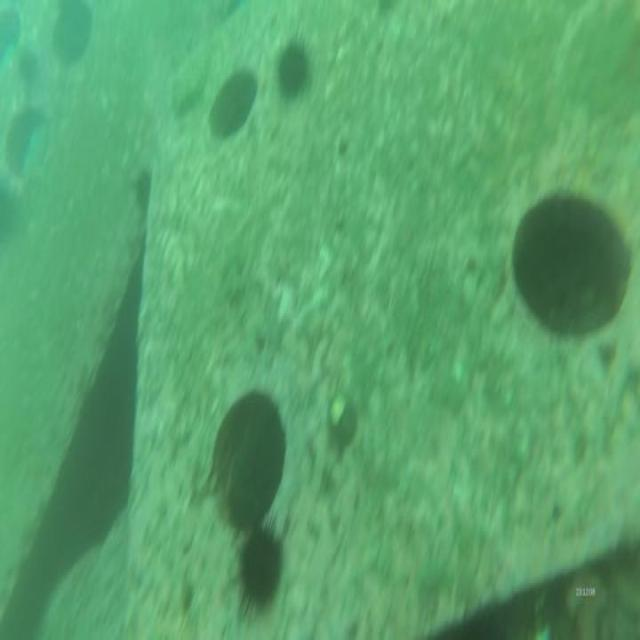echinus: (228, 514, 292, 626), (276, 33, 310, 103)
